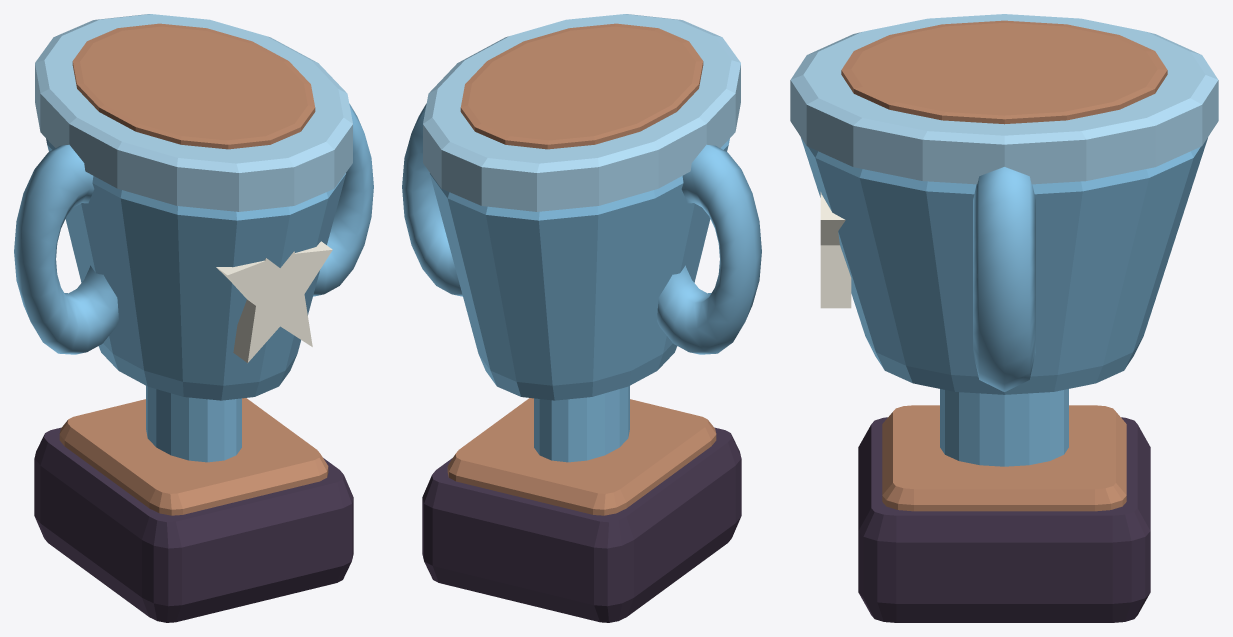
The model's file is pet_trophy.glb.
3 views of the same model, side by side, from view 1: azimuth 30°, elevation 25°; view 2: azimuth 150°, elevation 25°; view 3: azimuth 270°, elevation 25° (orthographic). The views are drawn at different scales.
Visible parts, largest first — view 1: model; view 2: model; view 3: model.
Boxes of the visible parts, box(x1,y1,x2,y2) form: model: box(14, 14, 373, 622); model: box(402, 14, 761, 622); model: box(790, 14, 1218, 622).
Bounding box in the file's own units: 0.5 × 0.65 × 0.5.
